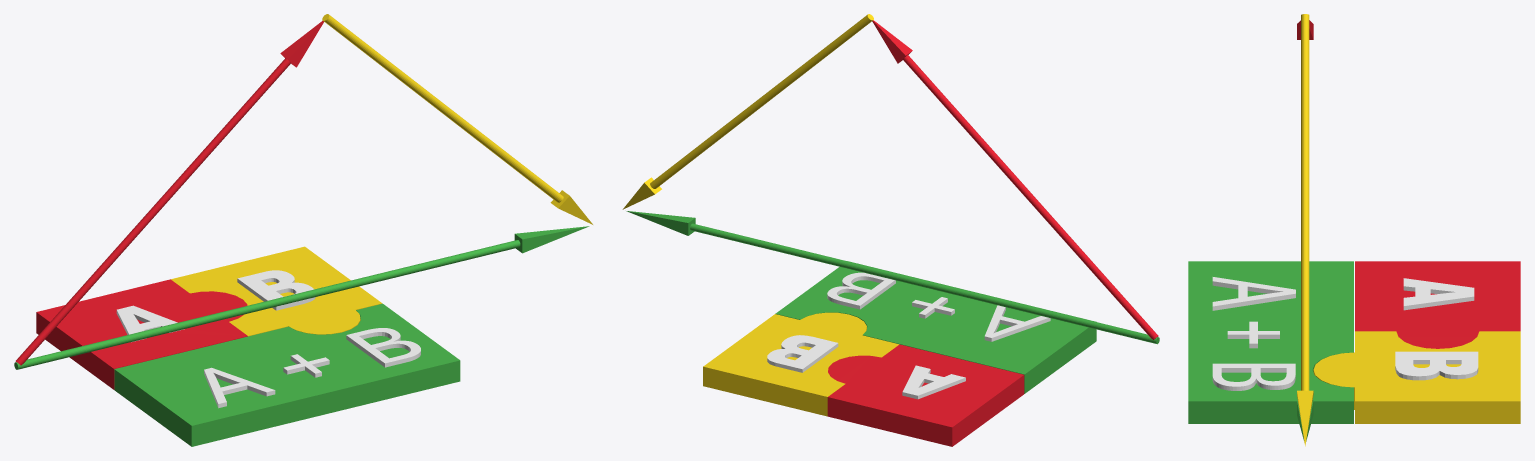
File: tinker.obj
The picture shows the model from 3 angles, left to right: view 1: azimuth 30°, elevation 25°; view 2: azimuth 150°, elevation 25°; view 3: azimuth 270°, elevation 25°; orthographic projection. The views are drawn at different scales.
Visible parts, largest first — view 1: group_0_4634441, group_0_15277357, group_0_16768282, group_0_16448250; view 2: group_0_4634441, group_0_15277357, group_0_16768282, group_0_16448250; view 3: group_0_4634441, group_0_16768282, group_0_15277357, group_0_16448250.
Part boxes in pixels (x1=…): group_0_4634441: x1=14, y1=226, x2=589, y2=446; group_0_15277357: x1=15, y1=20, x2=323, y2=389; group_0_16768282: x1=171, y1=14, x2=592, y2=336; group_0_16448250: x1=116, y1=270, x2=420, y2=408; group_0_4634441: x1=626, y1=211, x2=1159, y2=393; group_0_15277357: x1=827, y1=20, x2=1158, y2=446; group_0_16768282: x1=622, y1=14, x2=899, y2=416; group_0_16448250: x1=767, y1=272, x2=1050, y2=399; group_0_4634441: x1=1188, y1=261, x2=1353, y2=441; group_0_16768282: x1=1297, y1=14, x2=1520, y2=446; group_0_15277357: x1=1297, y1=20, x2=1520, y2=348; group_0_16448250: x1=1212, y1=277, x2=1478, y2=390.
Bounding box in the file's own units: 86 × 49.67 × 40.12.
